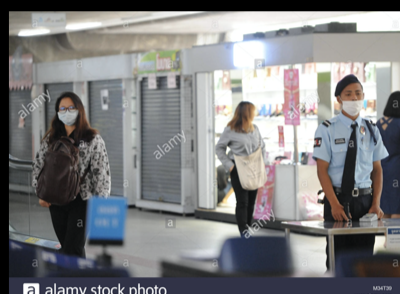mask_weared_incorrect: (339, 88, 364, 117)
with_mask: (56, 105, 80, 127)
